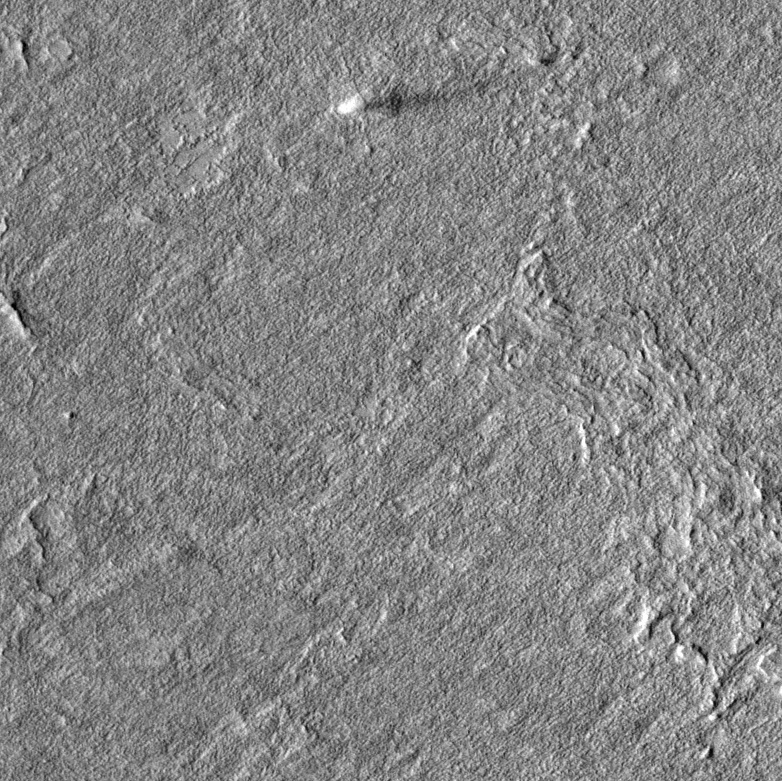dust_devil: (336, 85, 468, 117)
